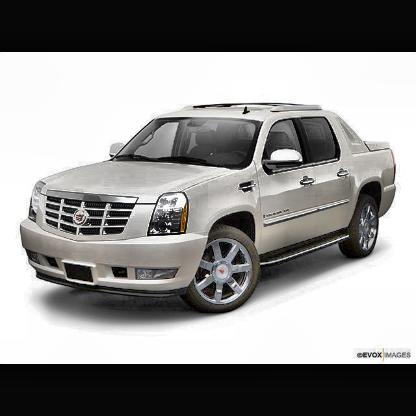Cadillac Escalade EXT Crew Cab 2007: (21, 104, 398, 315)
